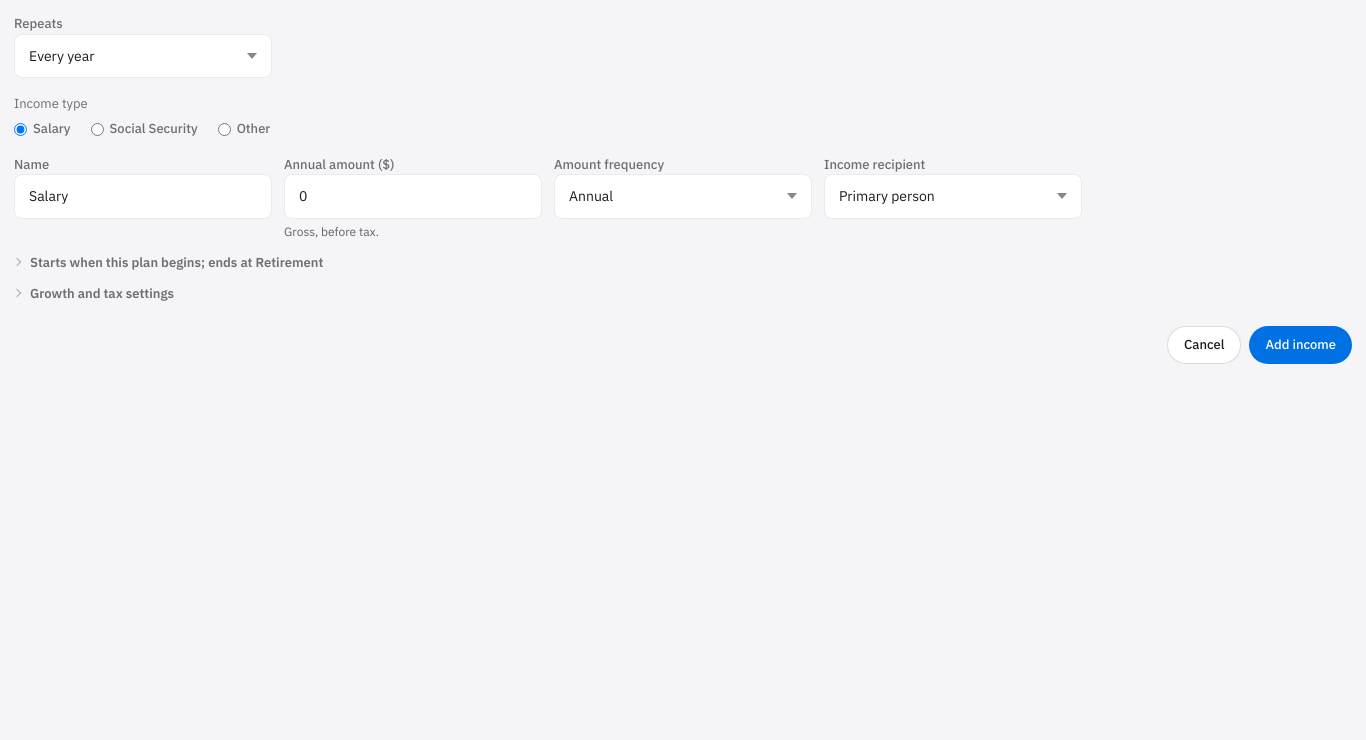
IncomeForm › keeps Plan start for fixed-date wages and the Social Security timing controls
Expected: the heading "Starts when this plan begins; ends at Retirement" is shown, 30,254 -> 323,271
Click the radio button labelled "Social Security".
click(97, 129)  # box 90,122 -> 104,136
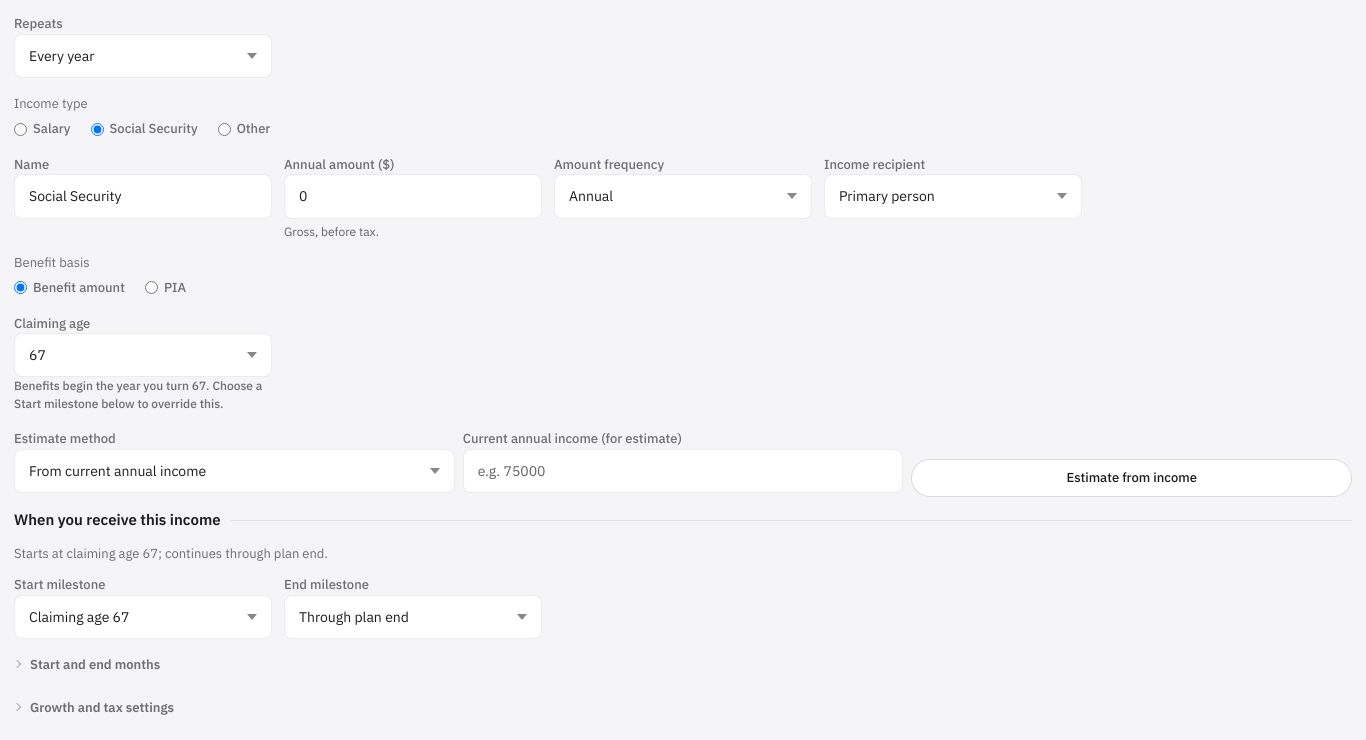
Now the text "When you receive this income" is shown, box 14,509 -> 231,532
Now the text "Starts at claiming age 67; continues through plan end." is shown, box 14,545 -> 328,562
